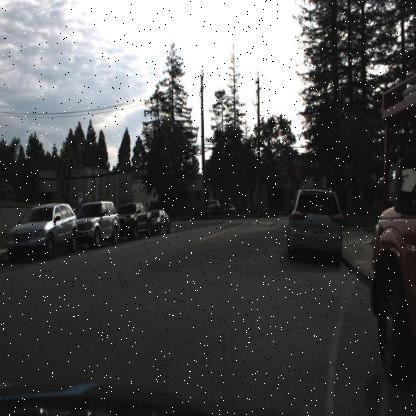car: (369, 79, 416, 392), (285, 184, 345, 264), (5, 200, 80, 262), (75, 198, 119, 251), (79, 199, 119, 243), (118, 199, 148, 243), (120, 200, 151, 241), (148, 205, 172, 237), (151, 206, 172, 238), (221, 197, 240, 217), (207, 196, 223, 216)
